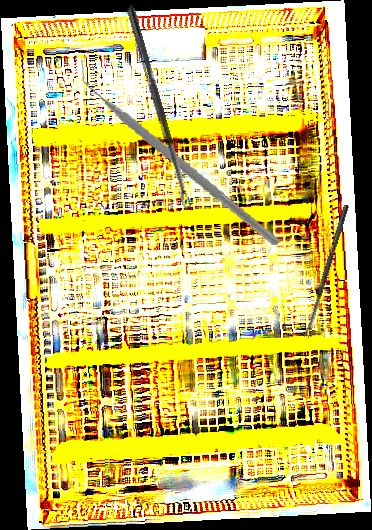Chopper: (59, 59, 301, 246)
Surgical Spoon: (124, 3, 192, 210), (302, 204, 350, 338)
